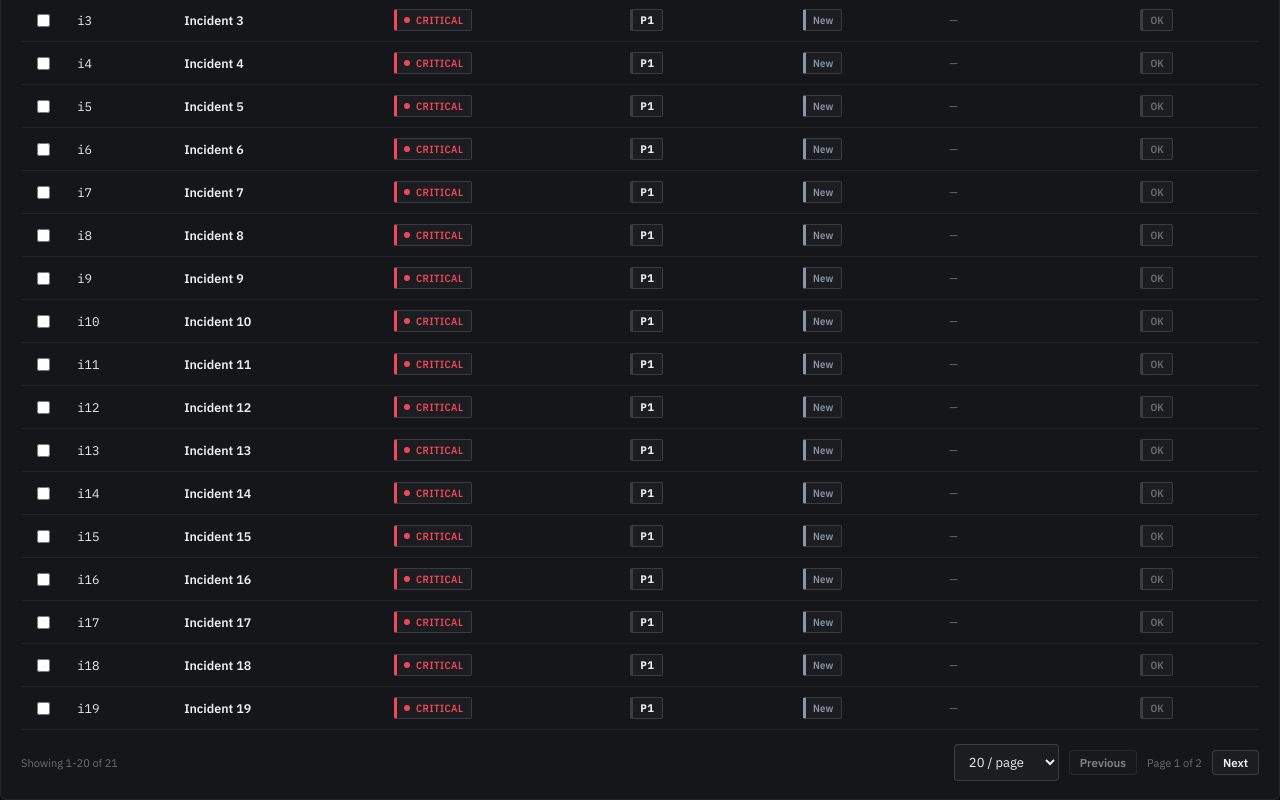
Test: IncidentsListPage › shows pagination totals and fetches the next page (offset) on click
(page scrolled)
expect the text "Showing 1-20 of 21" is shown: met, box [21, 756, 118, 770]
Click the button "Next". click: click(1235, 762)
box: [1212, 750, 1259, 775]
(page scrolled)
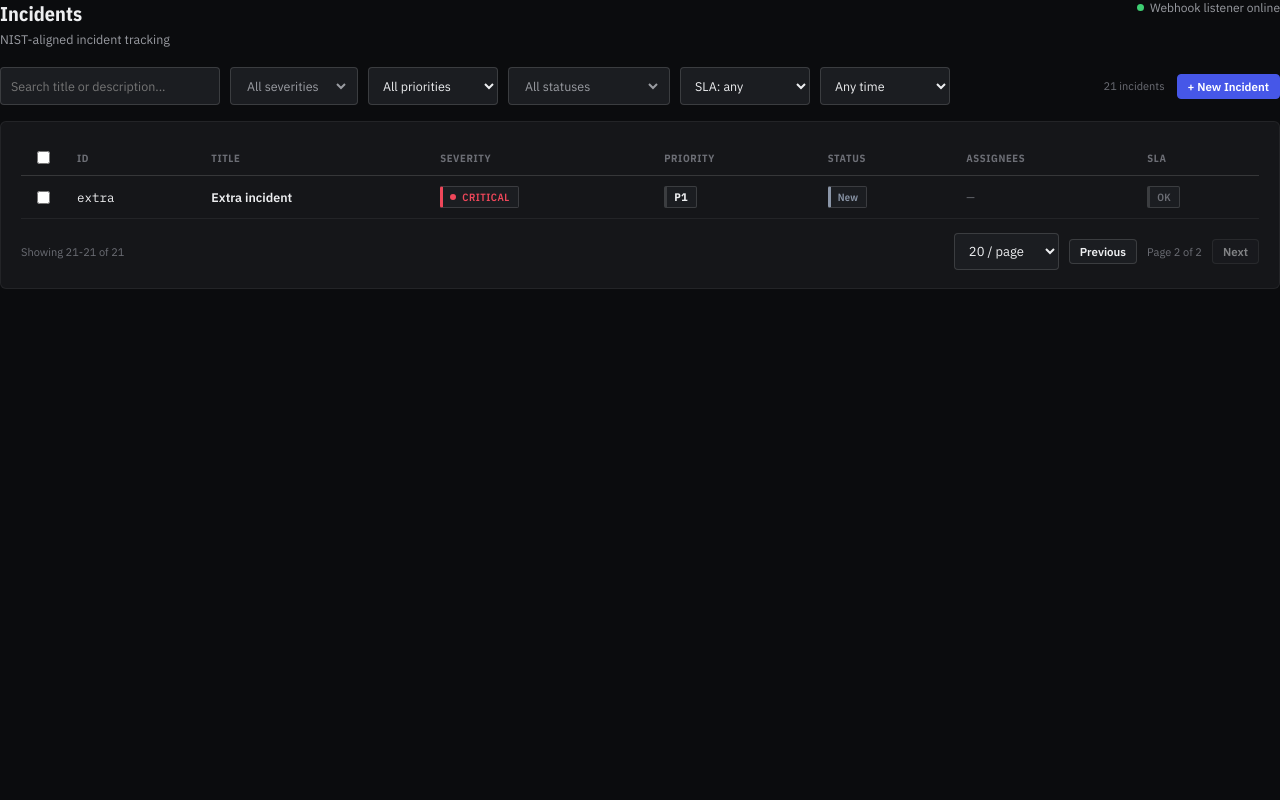
expect the text "Extra incident" is shown: met, box [199, 176, 428, 218]
